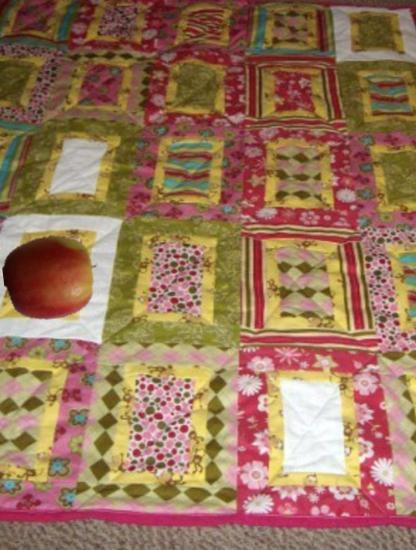Apple: (4, 230, 99, 325)
